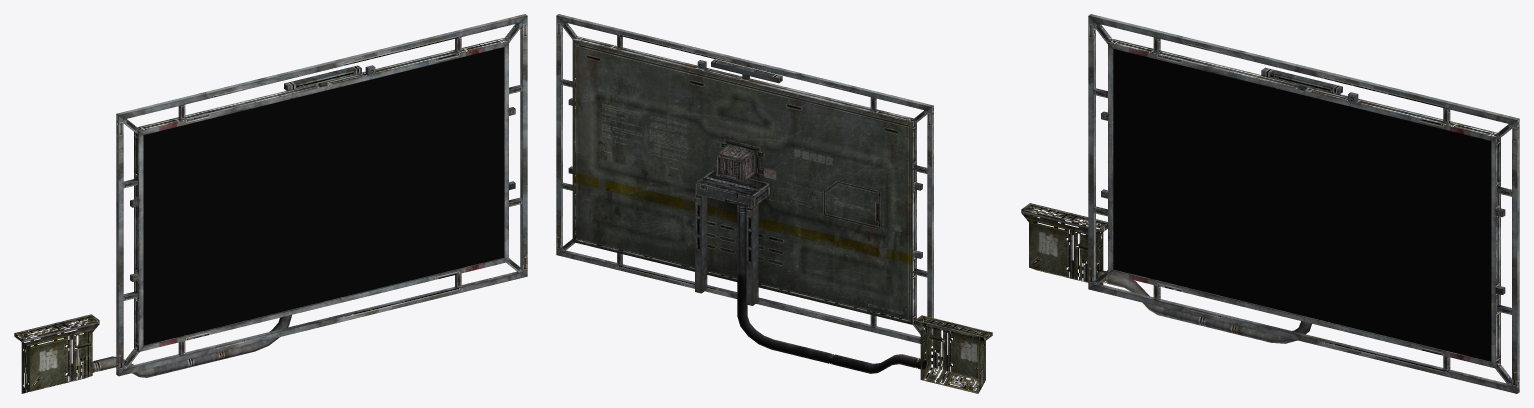
Rendered from tv_community_room_distortion.dae.
3 renders of one model, left to right at view 1: azimuth 30°, elevation 25°; view 2: azimuth 150°, elevation 25°; view 3: azimuth 330°, elevation 25°, orthographic. The views are drawn at different scales.
Visible parts, largest first — view 1: pPlane2, Mesh__4_; view 2: Mesh__4_, Mesh; view 3: pPlane2, Mesh__4_.
Part boxes in pixels (x1=…): pPlane2: x1=143, y1=47, x2=504, y2=345; Mesh__4_: x1=14, y1=14, x2=527, y2=393; Mesh__4_: x1=556, y1=14, x2=992, y2=393; Mesh: x1=580, y1=45, x2=910, y2=316; pPlane2: x1=1112, y1=49, x2=1491, y2=361; Mesh__4_: x1=1021, y1=14, x2=1519, y2=393.
Size of the model in its own units: 2 by 1.12 by 0.1869.
Materials: 4 (4 with a texture image).
